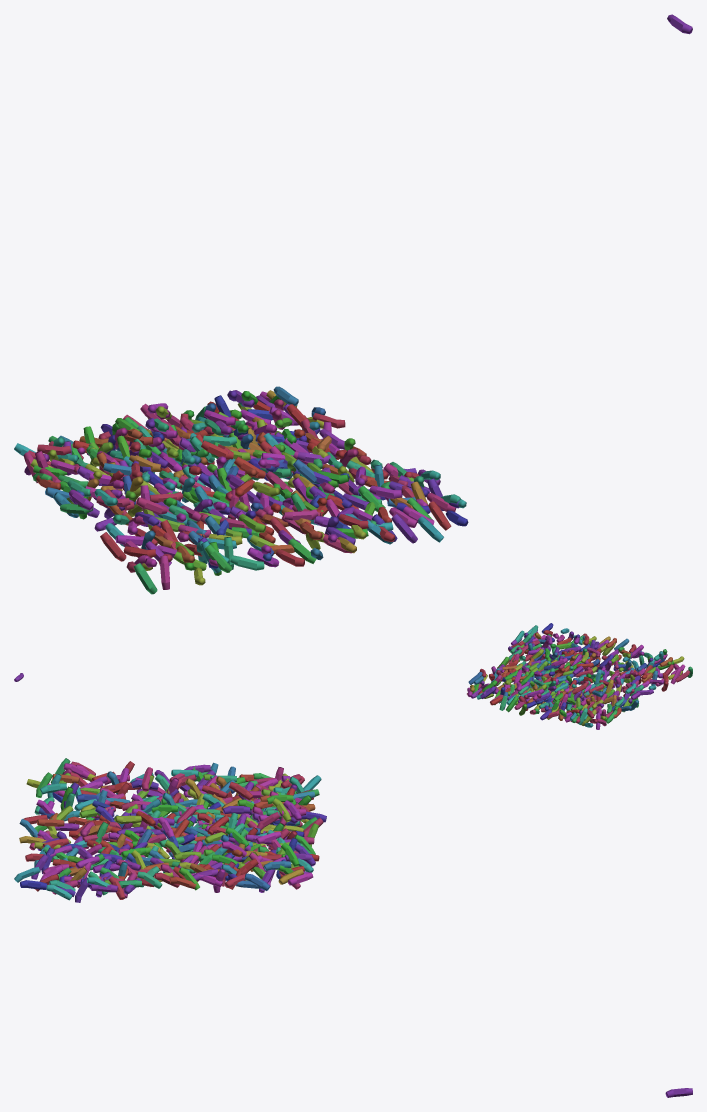
Rendered from SprinklesMesh2.fbx.
3 views of the same model, one above another, from view 1: azimuth 30°, elevation 25°; view 2: azimuth 150°, elevation 25°; view 3: azimuth 270°, elevation 25° (orthographic). The views are drawn at different scales.
Parts seen in each view (by area): view 1: MASH1_ReproMesh; view 2: MASH1_ReproMesh; view 3: MASH1_ReproMesh.
Boxes of the visible parts, x1=… form: MASH1_ReproMesh: x1=14, y1=14, x2=692, y2=594; MASH1_ReproMesh: x1=14, y1=623, x2=692, y2=729; MASH1_ReproMesh: x1=14, y1=758, x2=692, y2=1097.
Size of the model in its own units: 5.06 by 0.3502 by 3.97.
